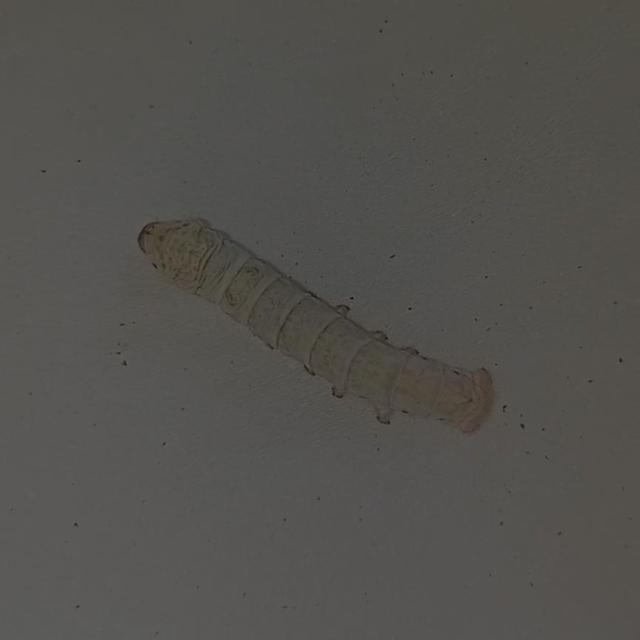Healthy: (123, 192, 518, 458)
